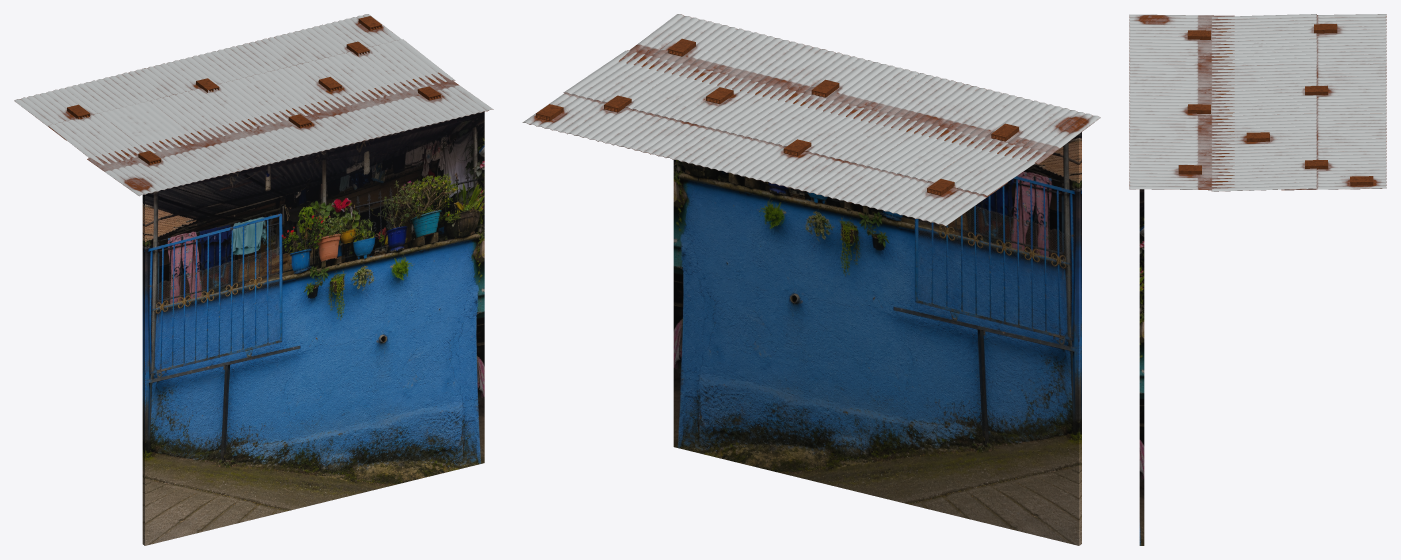
File: casa_derecha_09S.fbx
3 renders of one model, left to right at view 1: azimuth 30°, elevation 25°; view 2: azimuth 150°, elevation 25°; view 3: azimuth 270°, elevation 25°, orthographic. The views are drawn at different scales.
Visible parts, largest first — view 1: casa_derecha_09S, Techo_1.007; view 2: casa_derecha_09S, Techo_1.007; view 3: Techo_1.007, casa_derecha_09S.
Part boxes in pixels (left/top/right/bottom): casa_derecha_09S: left=142, top=111, right=484, bottom=545; Techo_1.007: left=14, top=14, right=493, bottom=196; casa_derecha_09S: left=673, top=132, right=1081, bottom=545; Techo_1.007: left=522, top=14, right=1100, bottom=226; Techo_1.007: left=1129, top=14, right=1386, bottom=191; casa_derecha_09S: left=1139, top=189, right=1144, bottom=545.
Size of the model in its own units: 819 by 793 by 506.
